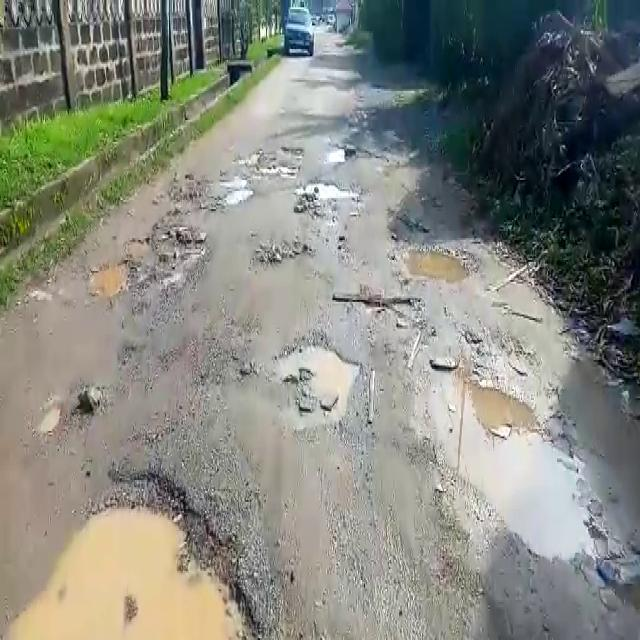Pothole: (0, 464, 274, 640), (416, 377, 600, 560), (89, 218, 212, 308), (272, 335, 358, 424), (395, 238, 480, 288), (336, 290, 424, 323), (290, 178, 351, 208), (254, 238, 315, 265), (217, 174, 256, 208), (429, 358, 459, 373), (276, 142, 307, 154)
